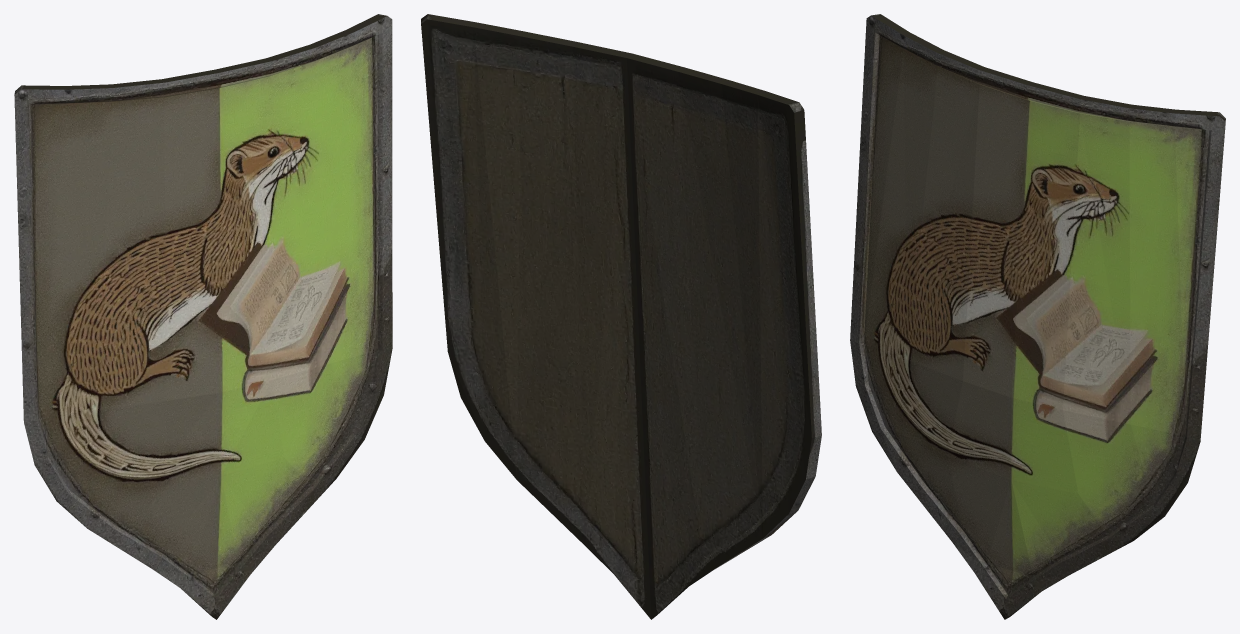
Rendered from DE_TREVELEZ_SHIELD_IRON.glb.
3 renders of one model, left to right at view 1: azimuth 30°, elevation 25°; view 2: azimuth 150°, elevation 25°; view 3: azimuth 330°, elevation 25°, orthographic. The views are drawn at different scales.
Visible parts, largest first — view 1: DE_TREVELEZ_SHIELD_IRON; view 2: DE_TREVELEZ_SHIELD_IRON; view 3: DE_TREVELEZ_SHIELD_IRON.
Boxes of the visible parts, x1,y1,x2,y2 form: DE_TREVELEZ_SHIELD_IRON: (14, 14, 392, 619); DE_TREVELEZ_SHIELD_IRON: (421, 14, 821, 619); DE_TREVELEZ_SHIELD_IRON: (850, 14, 1225, 619).
Size of the model in its own units: 0.6706 by 0.9412 by 0.1112.
Materials: 1 (1 with a texture image).
